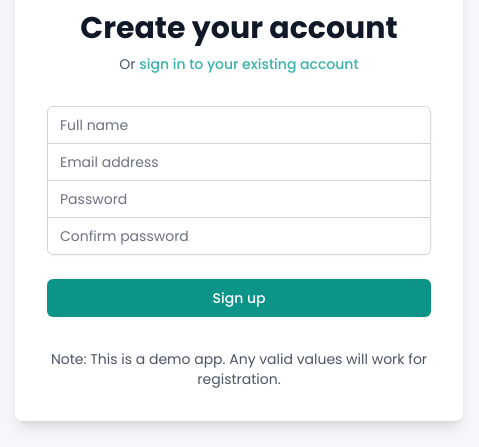
Test: Register Component › shows loading state during form submission
The width and height of the screenshot is (479, 447).
Fill and submit the form
In the field labelled "Full name": {"x": 239, "y": 125} left=47, top=106, right=431, bottom=144, type "Test User"
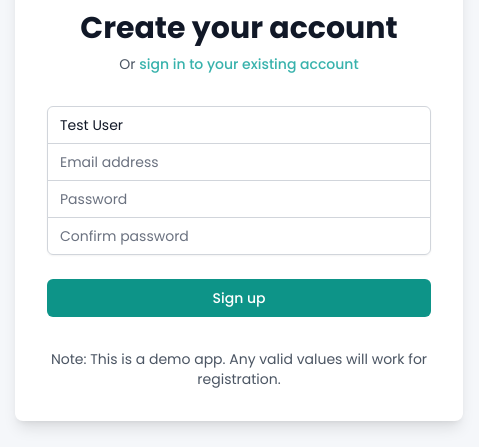
In the field labelled "Email address": {"x": 239, "y": 162} left=47, top=143, right=431, bottom=181, type "test@example.com"
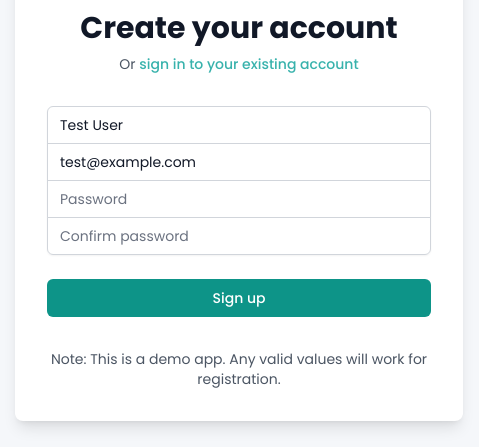
In the password field labelled "Password": {"x": 239, "y": 199} left=47, top=180, right=431, bottom=218, type "password123"
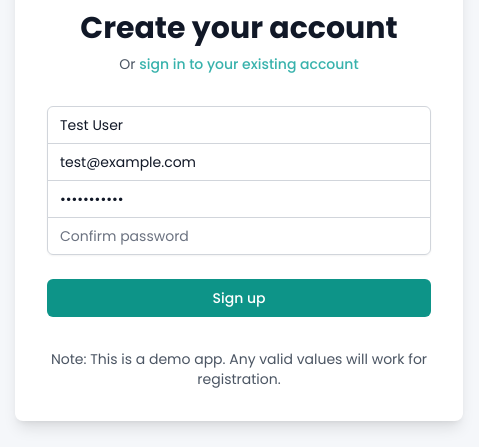
In the password field labelled "Confirm password": {"x": 239, "y": 236} left=47, top=217, right=431, bottom=255, type "password123"
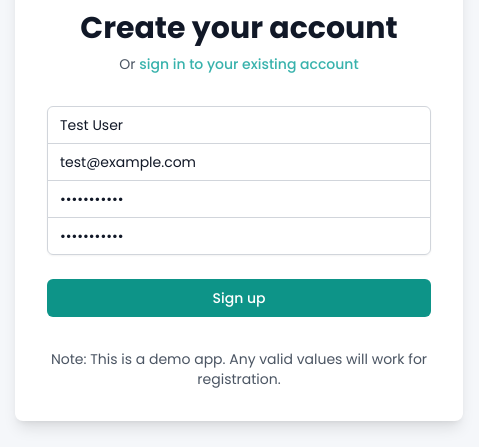
Click the button "Sign up": {"x": 239, "y": 298} left=47, top=279, right=431, bottom=317
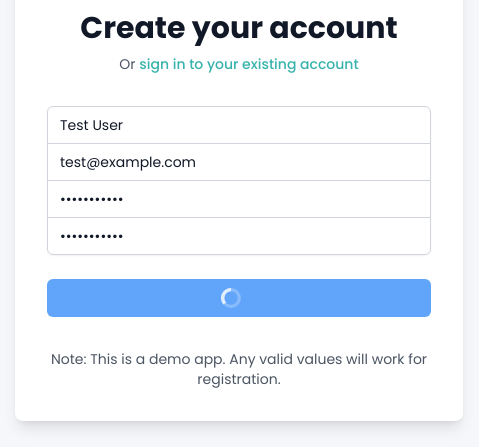
Check: the button named "sign up" is disabled, box left=47, top=279, right=431, bottom=317
